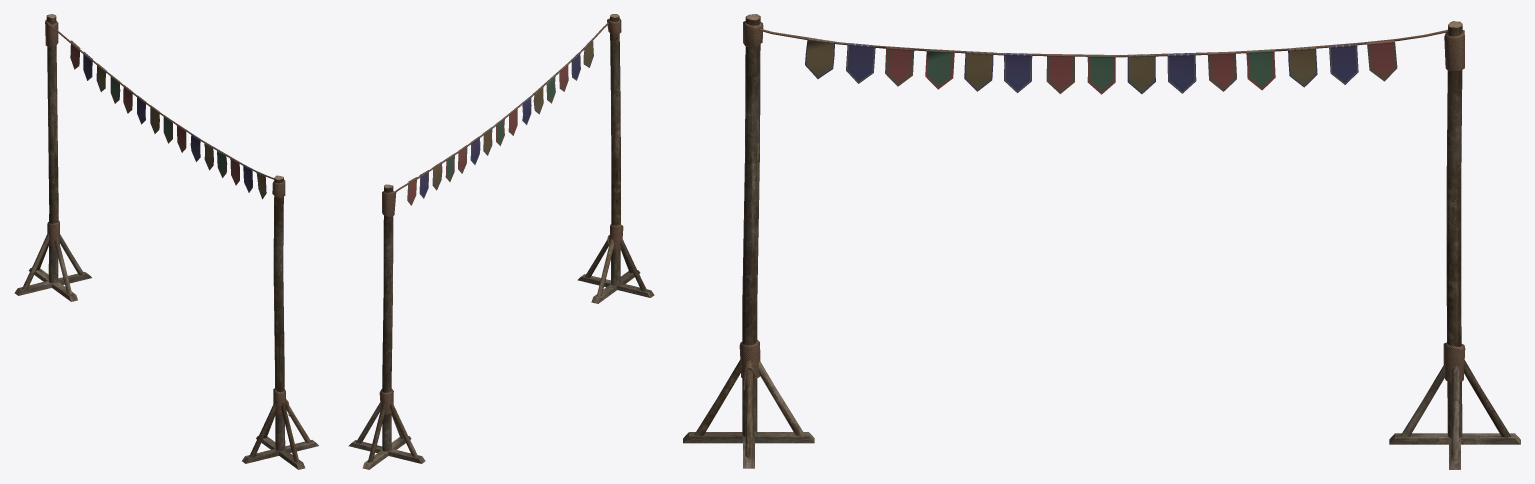
Rendered from ORN_Pennant_A-transformed.glb.
The picture shows the model from 3 angles, left to right: view 1: azimuth 30°, elevation 25°; view 2: azimuth 150°, elevation 25°; view 3: azimuth 270°, elevation 25°; orthographic projection. The views are drawn at different scales.
Parts seen in each view (by area): view 1: default; view 2: default; view 3: default.
Boxes of the visible parts, <box> form: default: <box>14,14,318,469</box>; default: <box>348,14,654,469</box>; default: <box>683,14,1520,469</box>.
Bounding box in the file's own units: 0.7504 × 2.61 × 4.67.
Materials: 1 (1 with a texture image).
